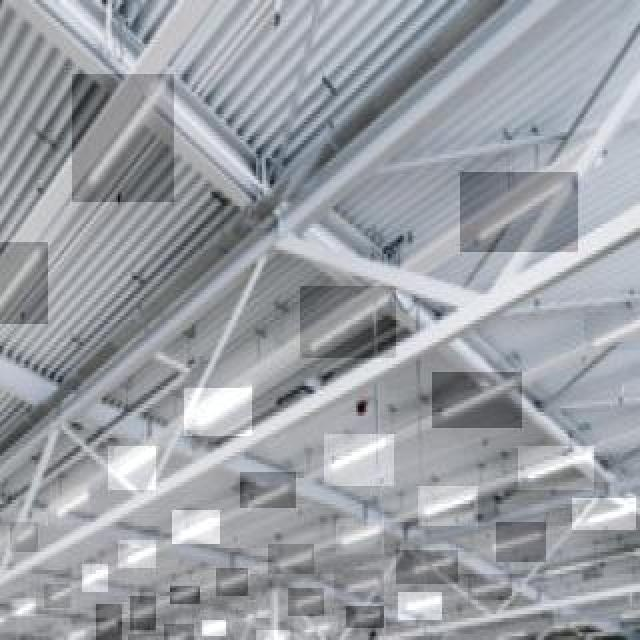fluorescent tube: (76, 83, 162, 193), (446, 185, 569, 253), (280, 303, 400, 354), (0, 224, 52, 334), (176, 382, 269, 442), (320, 433, 402, 482), (429, 371, 522, 413), (413, 486, 487, 529), (572, 496, 640, 541), (520, 445, 595, 480), (400, 546, 456, 589), (233, 478, 305, 511), (331, 518, 389, 555), (258, 538, 311, 578), (51, 489, 104, 527), (0, 512, 44, 556), (240, 473, 295, 505), (92, 602, 122, 640), (215, 575, 260, 600), (125, 595, 151, 638), (175, 518, 218, 540)
